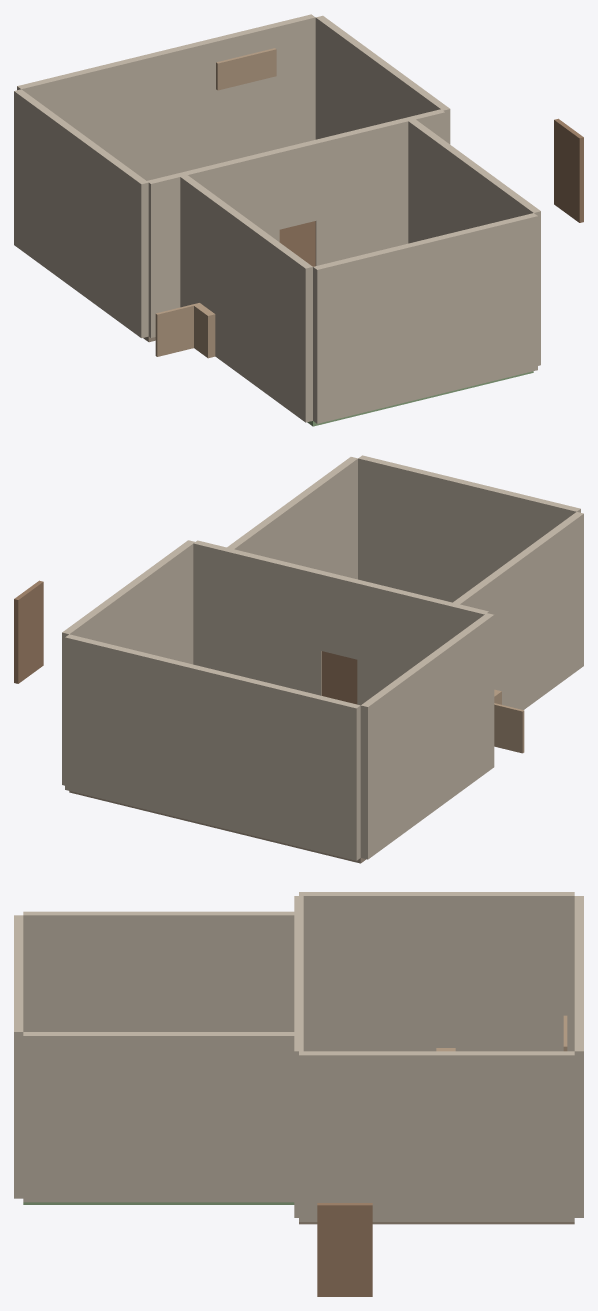
File: tavern.glb
3 renders of one model, top to bottom at view 1: azimuth 30°, elevation 25°; view 2: azimuth 150°, elevation 25°; view 3: azimuth 270°, elevation 25°, orthographic. The views are drawn at different scales.
Visible parts, largest first — view 1: 花园墙北, 墙南, 墙西, 花园墙西, 墙北右, 墙北左, 花园墙东, 墙东, 墙北楣, 园门, 招牌, 吧台正面 (+3 smaller); view 2: 墙南, 墙西, 花园墙北, 墙北右, 花园墙西, 墙东, 墙北左, 花园墙东, 墙北楣, 园门, 门, 吧台正面 (+1 smaller); view 3: 花园墙东, 墙东, 墙西, 花园墙西, 园门, 墙南, 花园墙北, 墙北右, 花园地板, 墙北左, 地板.
Boxes of the visible parts, x1,y1,x2,y2 form: 花园墙北: (313,213,537,423); 墙南: (17,14,315,180); 墙西: (14,89,148,338); 花园墙西: (180,174,312,422); 墙北右: (312,109,445,265); 墙北左: (147,149,279,337); 花园墙东: (408,119,540,365); 墙东: (315,15,450,144); 墙北楣: (275,140,316,229); 园门: (554,118,583,222); 招牌: (216,48,276,90); 吧台正面: (155,303,199,356); 墙南: (65,634,360,860); 墙西: (360,613,494,859); 花园墙北: (358,455,580,602); 墙北右: (193,540,324,695); 花园墙西: (453,512,583,709); 墙东: (62,540,194,785); 墙北左: (357,580,488,705); 花园墙东: (227,457,357,579); 墙北楣: (321,571,360,659); 园门: (14,580,43,683); 门: (321,651,357,704); 吧台正面: (494,703,524,753); 花园墙东: (23,1032,294,1202); 墙东: (299,1051,574,1221); 墙西: (299,892,574,1051); 花园墙西: (23,911,298,1031); 园门: (317,1203,372,1296); 墙南: (574,896,583,1217); 花园墙北: (14,915,23,1198); 墙北右: (294,983,303,1217); 花园地板: (23,1202,294,1204); 墙北左: (294,896,303,963); 地板: (299,1222,574,1224).
Bounding box in the file's own units: 12.46 × 4.15 × 12.4.
